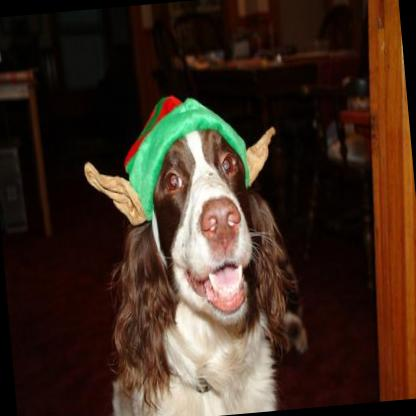English_springer: (79, 81, 313, 416)
